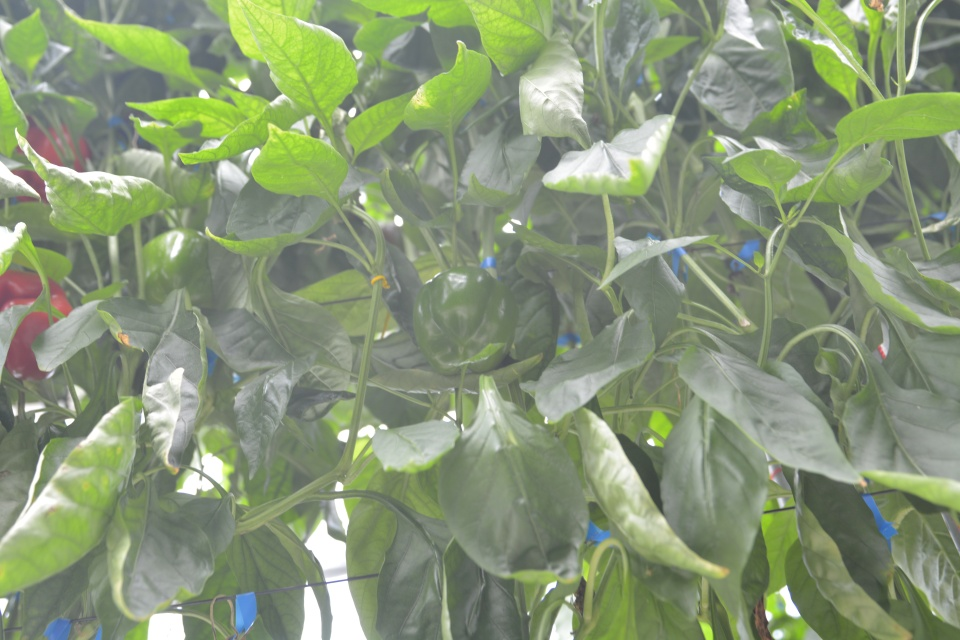fruit: (412, 262, 520, 377), (0, 267, 74, 381), (10, 113, 92, 203), (139, 225, 214, 309)
